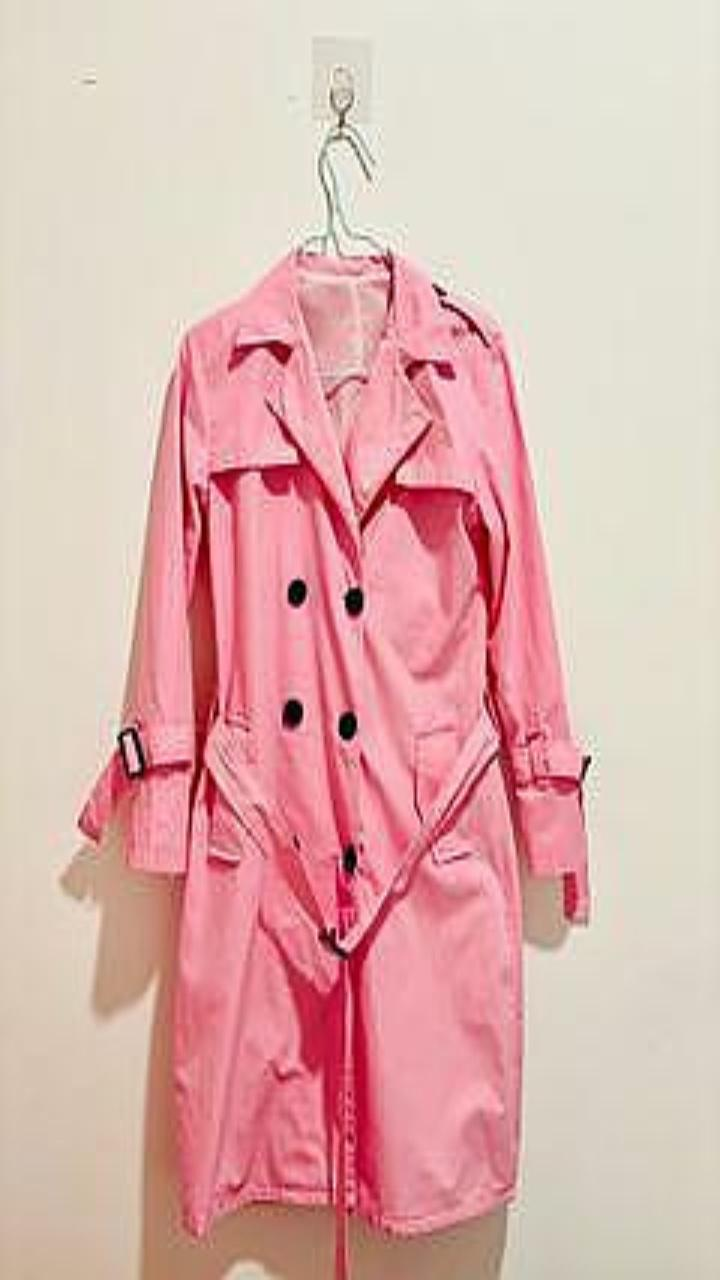Coat: (78, 246, 589, 1276)
